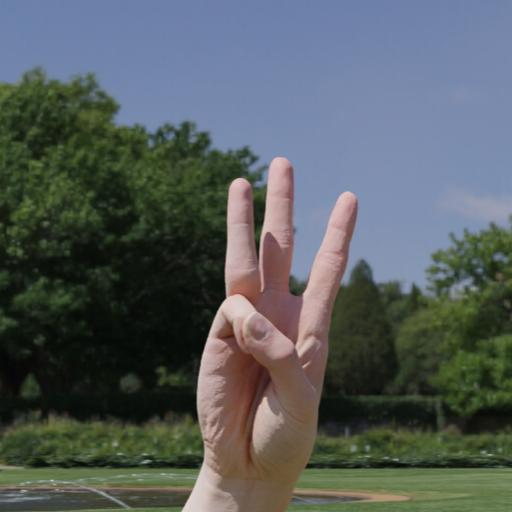W: (192, 146, 364, 483)
